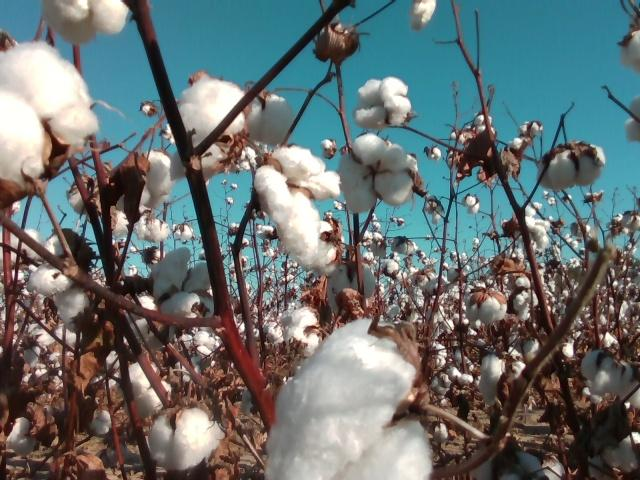cotton_ready: (262, 318, 434, 480), (0, 42, 101, 185), (171, 81, 292, 174), (256, 147, 341, 273), (28, 232, 91, 327), (339, 136, 415, 211), (111, 151, 174, 240), (149, 248, 219, 322), (146, 407, 226, 471), (44, 0, 128, 45), (582, 347, 640, 407), (539, 141, 606, 189), (352, 76, 409, 129), (324, 261, 376, 316), (467, 444, 546, 480), (128, 359, 171, 411), (484, 346, 526, 399), (286, 308, 320, 355), (621, 30, 640, 76), (412, 0, 437, 28), (626, 97, 640, 140)
